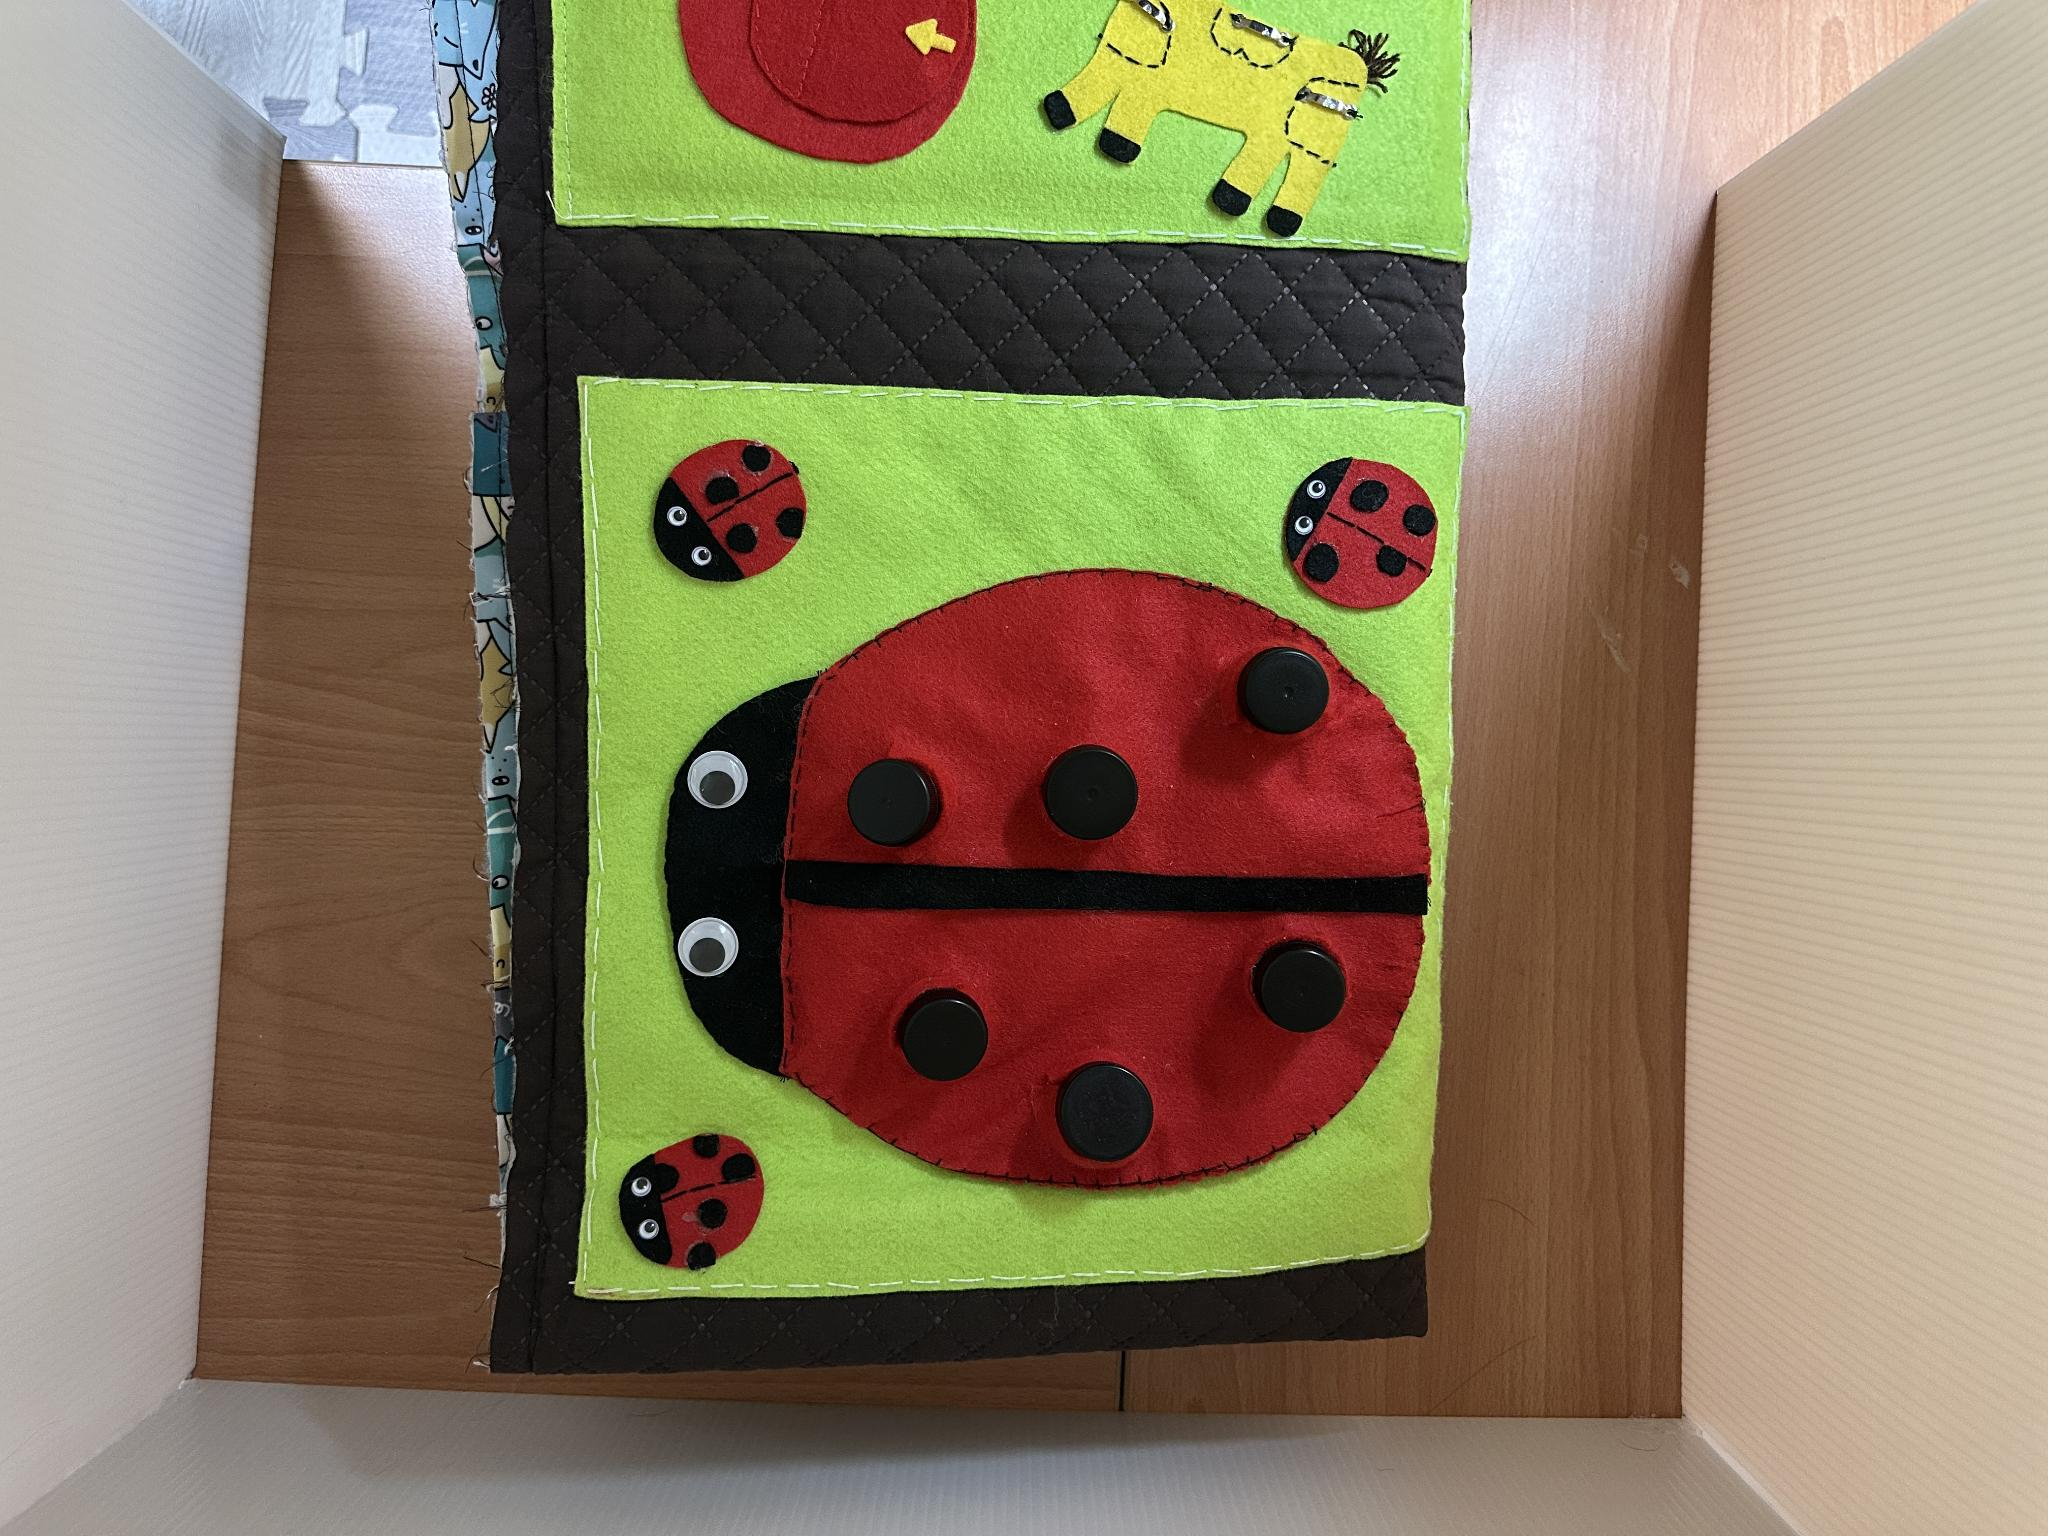cap_ok: (1221, 920, 1371, 1046), (1030, 729, 1163, 857), (1039, 1052, 1174, 1176), (879, 971, 1006, 1096), (1227, 631, 1347, 745), (842, 742, 963, 855)
